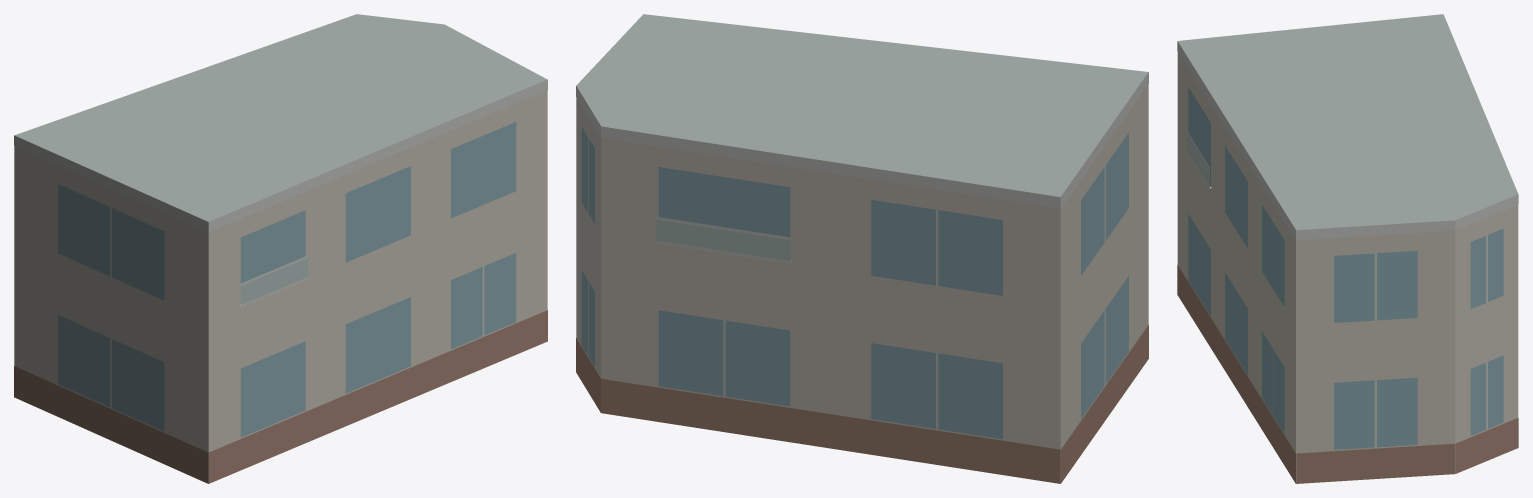
File: survey-upis-32511981.glb
3 renders of one model, left to right at view 1: azimuth 30°, elevation 25°; view 2: azimuth 150°, elevation 25°; view 3: azimuth 270°, elevation 25°, orthographic. The views are drawn at different scales.
Parts seen in each view (by area): view 1: survey-upis-32511981.tmp; view 2: survey-upis-32511981.tmp; view 3: survey-upis-32511981.tmp.
Part boxes in pixels (box(x1,y1,x2,y2)): survey-upis-32511981.tmp: box(14, 14, 547, 483); survey-upis-32511981.tmp: box(576, 14, 1148, 483); survey-upis-32511981.tmp: box(1177, 14, 1518, 483).
Bounding box in the file's own units: 11.16 × 6.1 × 7.44.
